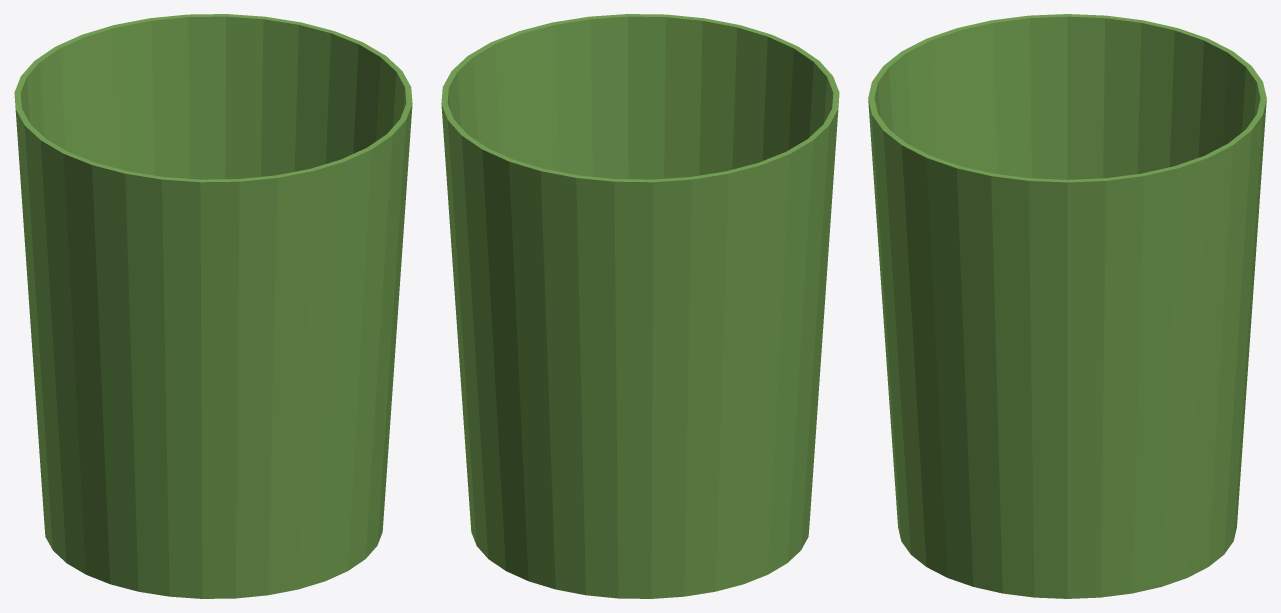
The model's file is bin.glb.
3 views of the same model, side by side, from view 1: azimuth 30°, elevation 25°; view 2: azimuth 150°, elevation 25°; view 3: azimuth 270°, elevation 25° (orthographic).
Visible parts, largest first — view 1: Bin; view 2: Bin; view 3: Bin.
Boxes of the visible parts, bbox=[...] form: Bin: bbox=[14, 14, 412, 598]; Bin: bbox=[441, 14, 839, 598]; Bin: bbox=[868, 14, 1266, 598].
Size of the model in its own units: 0.16 by 0.19 by 0.16.
